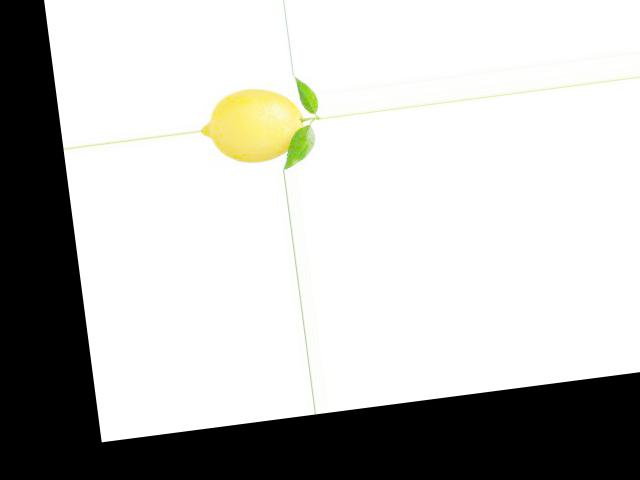lemon: (195, 75, 315, 166)
